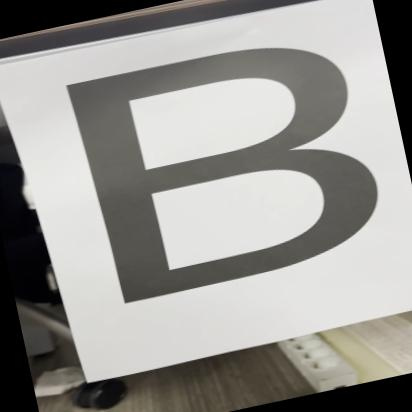seat: (29, 2, 412, 332)
